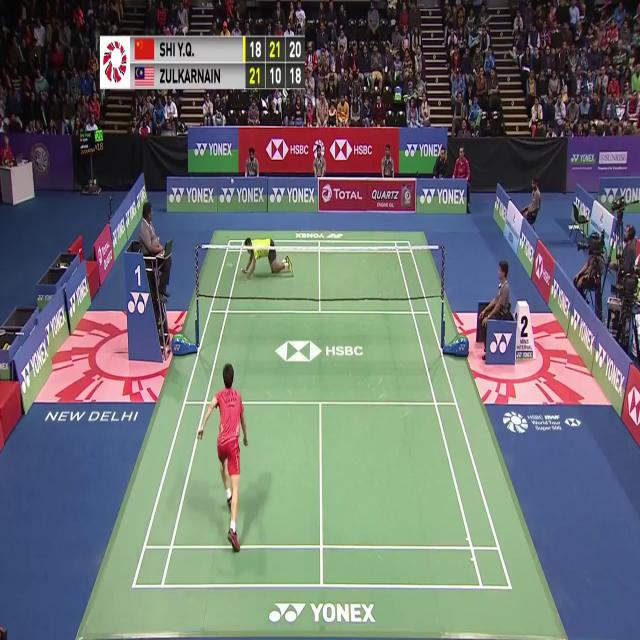Shuttlecock: (228, 177, 235, 189)
